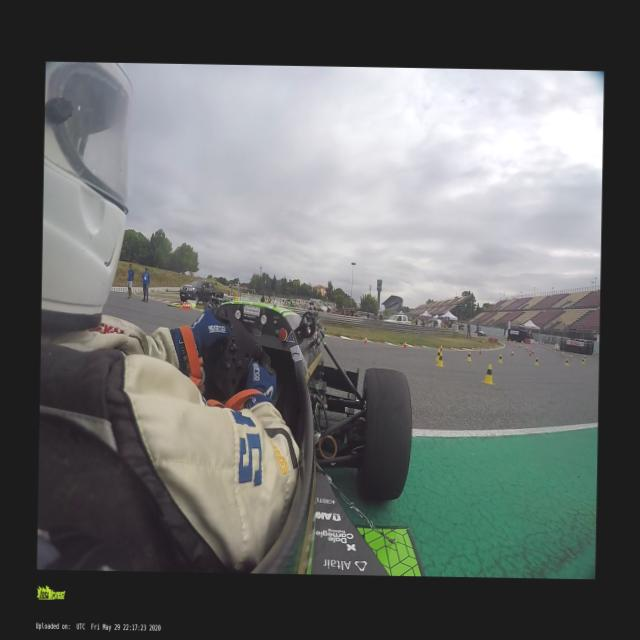orange_cone: (363, 336, 367, 344), (403, 340, 406, 348), (439, 342, 442, 350), (528, 350, 532, 356), (511, 350, 514, 356), (478, 348, 481, 354), (181, 302, 184, 308), (184, 302, 187, 308), (186, 302, 188, 308), (532, 348, 534, 353)
yellow_cone: (481, 364, 494, 384), (436, 352, 444, 367), (434, 348, 442, 361), (466, 351, 471, 362), (497, 353, 502, 363), (534, 356, 538, 366), (564, 359, 569, 366), (580, 357, 584, 364), (583, 354, 586, 360), (561, 348, 564, 354), (569, 351, 572, 356), (554, 346, 556, 352)
